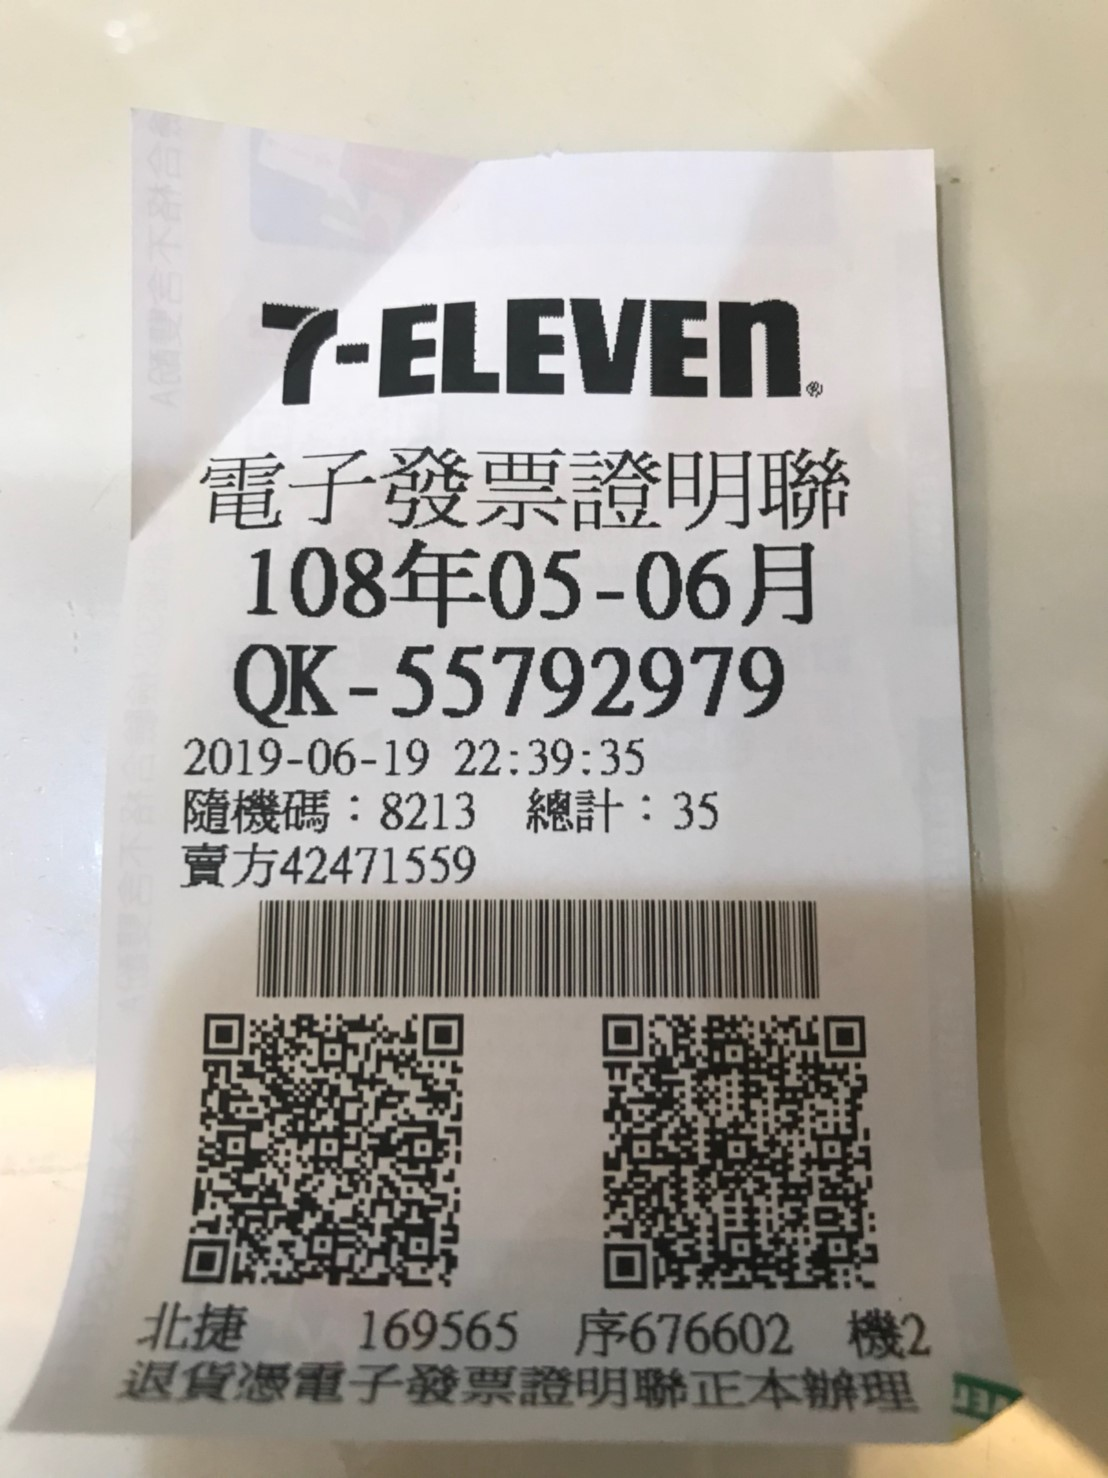Date_New: (249, 533, 818, 632)
Number_New: (388, 638, 789, 725)
